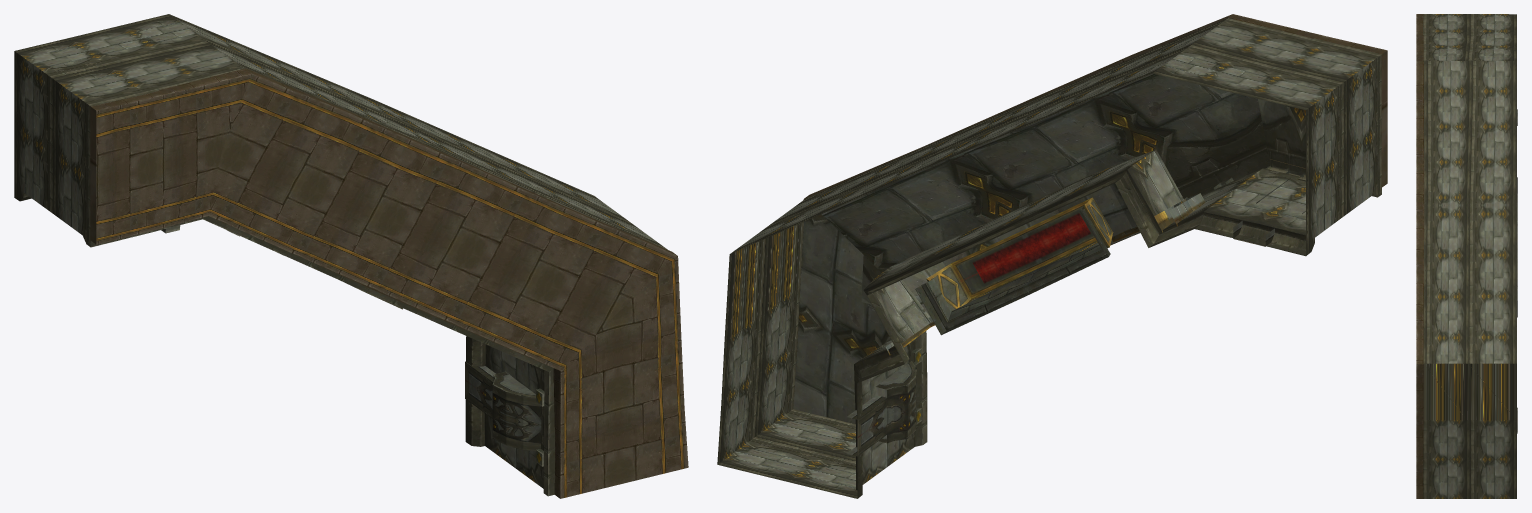
File: zhanchang_fuben_259_qiangmian04a.obj
3 renders of one model, left to right at view 1: azimuth 30°, elevation 25°; view 2: azimuth 150°, elevation 25°; view 3: azimuth 270°, elevation 25°, orthographic. The views are drawn at different scales.
Visible parts, largest first — view 1: zhanchang_fuben_259_qiangmian04a; view 2: zhanchang_fuben_259_qiangmian04a; view 3: zhanchang_fuben_259_qiangmian04a.
Boxes of the visible parts, x1,y1,x2,y2 form: zhanchang_fuben_259_qiangmian04a: (14, 14, 688, 498); zhanchang_fuben_259_qiangmian04a: (717, 14, 1387, 498); zhanchang_fuben_259_qiangmian04a: (1416, 14, 1517, 498).
Size of the model in its own units: 1344 by 1087 by 324.
Materials: 5 (5 with a texture image).
